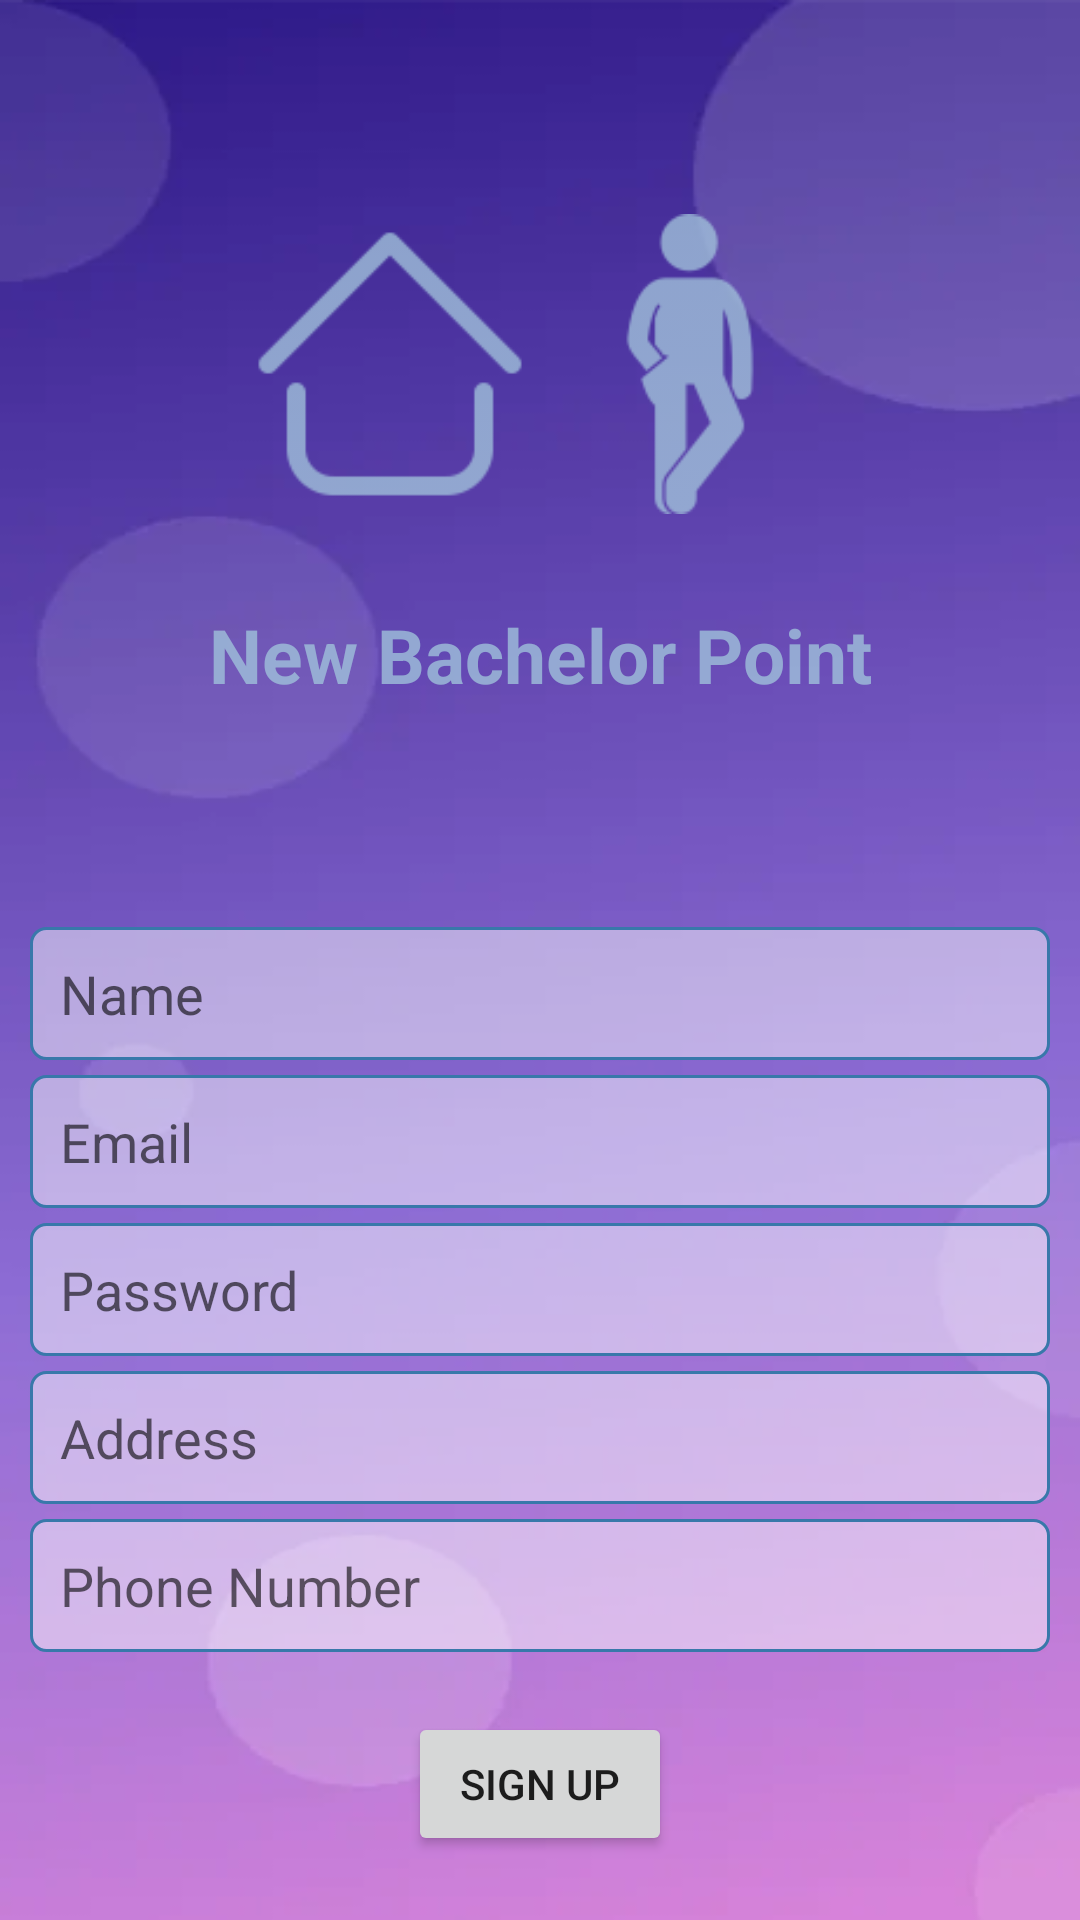

Icons on this 1080 × 1920 Android screen, each with the point to tap as (x,y):
home: (390,373)
man: (690,364)
